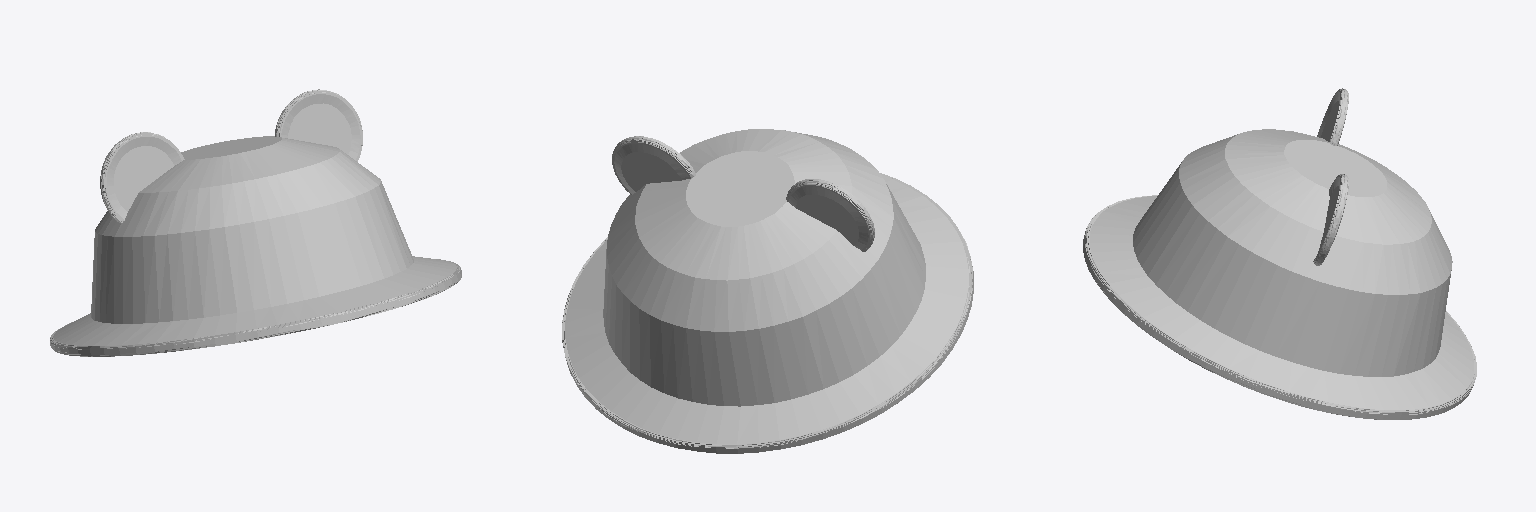
File: Hat.obj
3 views of the same model, side by side, from view 1: azimuth 30°, elevation 25°; view 2: azimuth 150°, elevation 25°; view 3: azimuth 270°, elevation 25° (orthographic).
Visible parts, largest first — view 1: TDA_Mature_BASE__by_Kurusou_mesh_TDA_Mature_BASE__by_Kurusou; view 2: TDA_Mature_BASE__by_Kurusou_mesh_TDA_Mature_BASE__by_Kurusou; view 3: TDA_Mature_BASE__by_Kurusou_mesh_TDA_Mature_BASE__by_Kurusou.
Boxes of the visible parts, box(x1,y1,x2,y2) form: TDA_Mature_BASE__by_Kurusou_mesh_TDA_Mature_BASE__by_Kurusou: box(50, 89, 461, 356); TDA_Mature_BASE__by_Kurusou_mesh_TDA_Mature_BASE__by_Kurusou: box(562, 129, 973, 453); TDA_Mature_BASE__by_Kurusou_mesh_TDA_Mature_BASE__by_Kurusou: box(1083, 88, 1476, 419).
Bounding box in the file's own units: 0.6675 × 0.4232 × 0.6304.